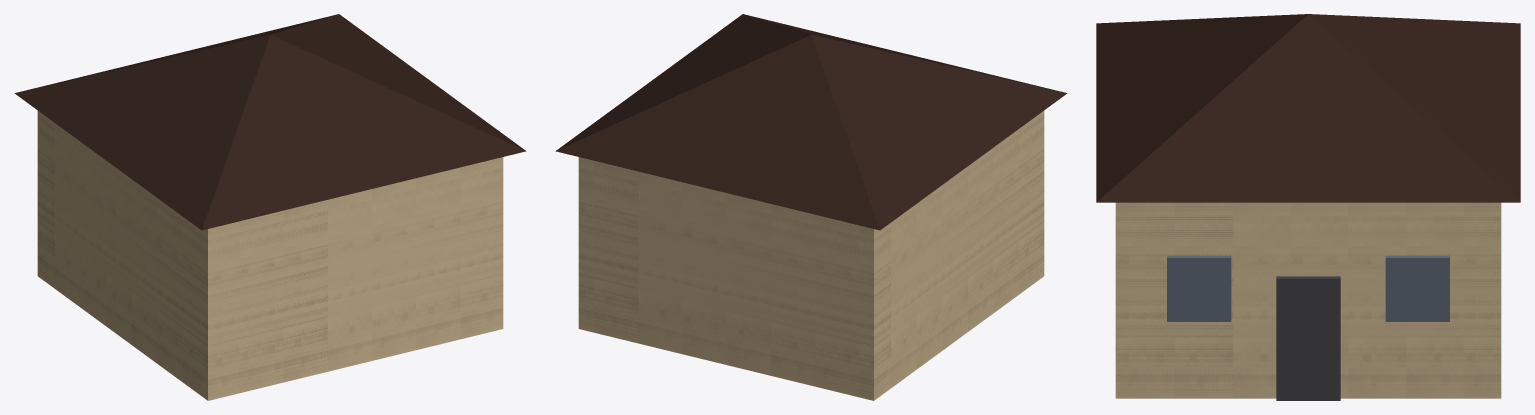
Rendered from house-a.glb.
3 views of the same model, side by side, from view 1: azimuth 30°, elevation 25°; view 2: azimuth 150°, elevation 25°; view 3: azimuth 270°, elevation 25° (orthographic). The views are drawn at different scales.
Visible parts, largest first — view 1: house-a; view 2: house-a; view 3: house-a.
Boxes of the visible parts, left/top/right/bottom form: house-a: left=14, top=14, right=526, bottom=400; house-a: left=555, top=14, right=1067, bottom=400; house-a: left=1096, top=14, right=1520, bottom=400.
Size of the model in its own units: 6.6 by 5.2 by 6.6.
4 materials, 2 textured.
